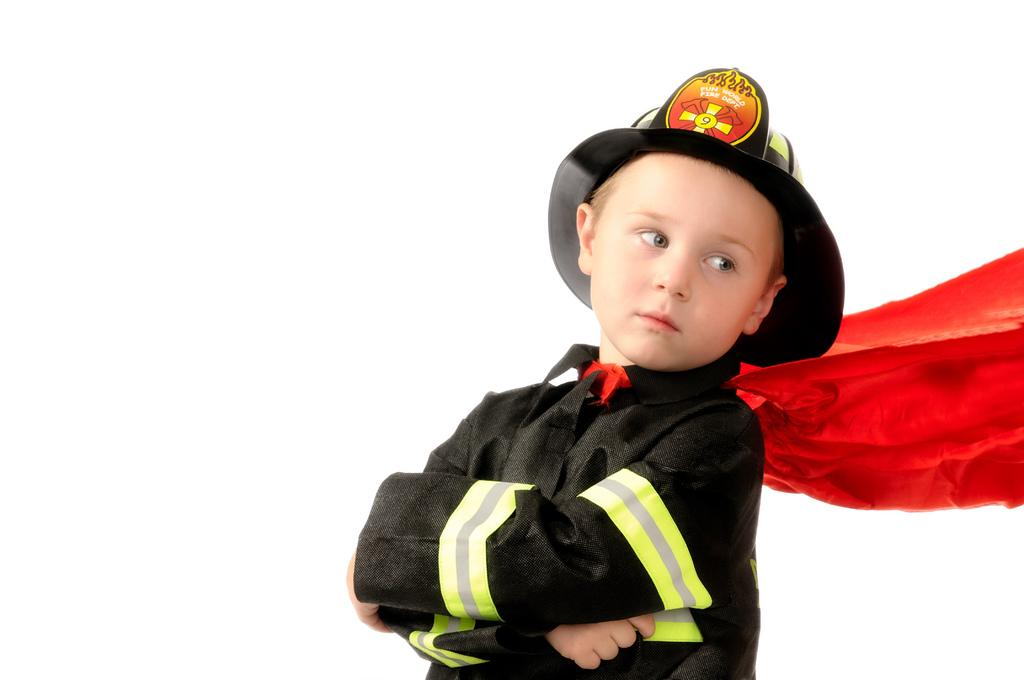Hat: (544, 66, 844, 368)
